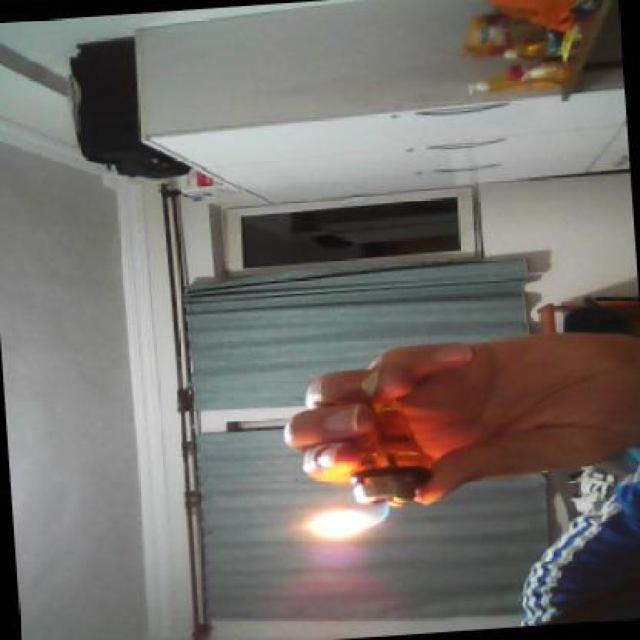Fire: (294, 507, 386, 547)
